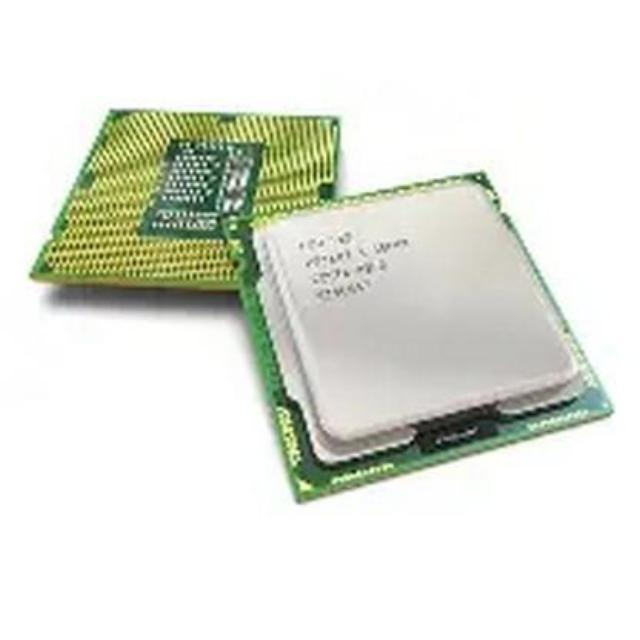CPU: (235, 180, 596, 482), (24, 100, 338, 317)
